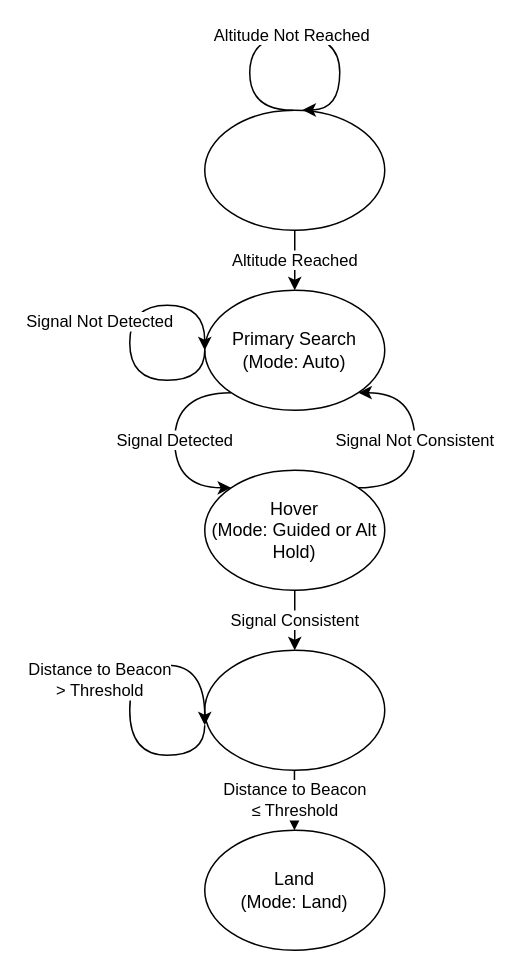
The diagram is 519 pixels wide and 977 high, and some of its shapes have lost their labels. The shapes that lost their labels are listed below. From the top down, each one's centre as x and y in pixels, then its label:
the point at 294,169: Take Off (Mode: Guided)
the point at 294,709: Secondary Search (Mode: Guided)
